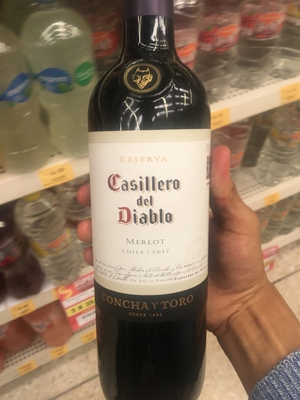casillero del diablo merlot: (81, 11, 230, 399)
